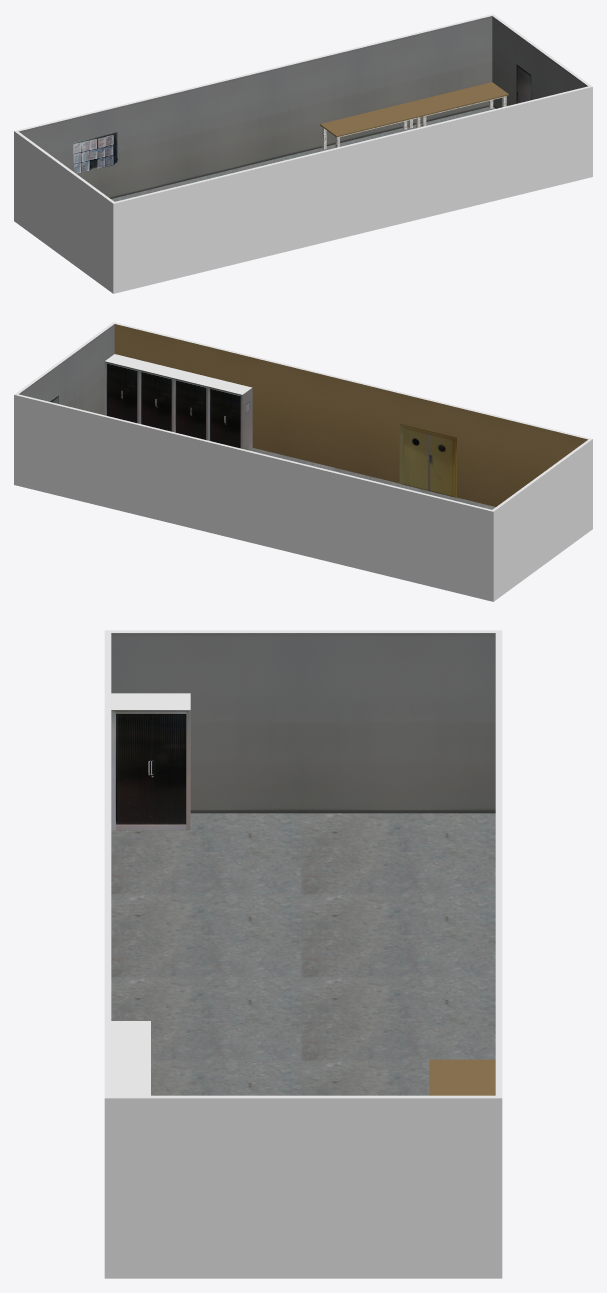
3 views of the same model, one above another, from view 1: azimuth 30°, elevation 25°; view 2: azimuth 150°, elevation 25°; view 3: azimuth 270°, elevation 25° (orthographic). The views are drawn at different scales.
Parts seen in each view (by area): view 1: SketchUp (×3), instance_9, instance_8, instance_1, instance_2; view 2: SketchUp (×4), instance_0, instance_6 (×2), instance_3, instance_4, instance_5; view 3: SketchUp (×3), instance_7 (×2), instance_9, instance_5, instance_6.
Boxes of the visible parts, <box> form: SketchUp (×3): <box>14,14,592,293</box>; instance_9: <box>320,103,422,137</box>; instance_8: <box>406,82,508,116</box>; instance_1: <box>73,132,117,173</box>; instance_2: <box>516,64,531,103</box>; SketchUp (×4): <box>14,322,592,601</box>; instance_0: <box>399,424,456,497</box>; instance_6 (×2): <box>208,386,252,450</box>; instance_3: <box>104,361,139,423</box>; instance_4: <box>139,369,173,431</box>; instance_5: <box>173,378,207,440</box>; SketchUp (×3): <box>104,630,502,1278</box>; instance_7 (×2): <box>111,693,190,830</box>; instance_9: <box>429,1059,495,1095</box>; instance_5: <box>111,1054,150,1088</box>; instance_6: <box>111,1021,150,1054</box>.
Bounding box in the file's own units: 657 × 236 × 118.
Materials: 10 (8 with a texture image).
